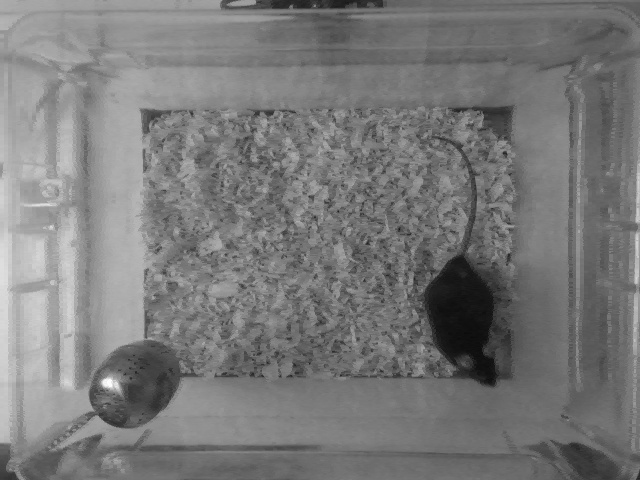mice: (421, 120, 504, 392)
